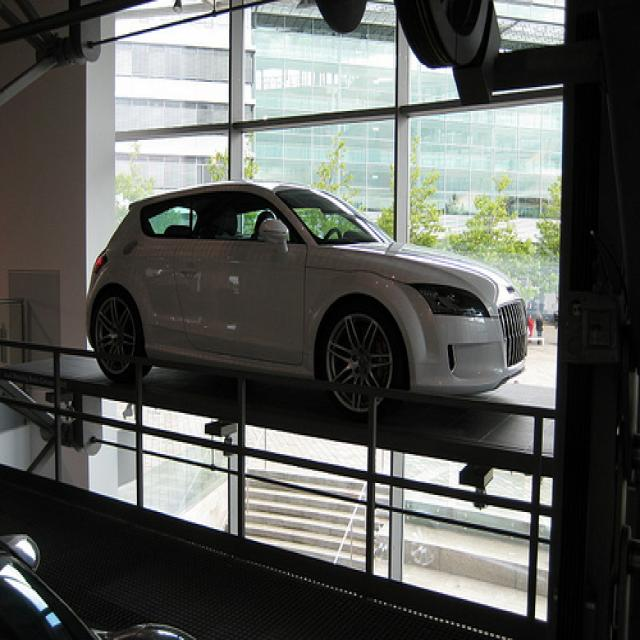Car: (85, 175, 532, 396)
